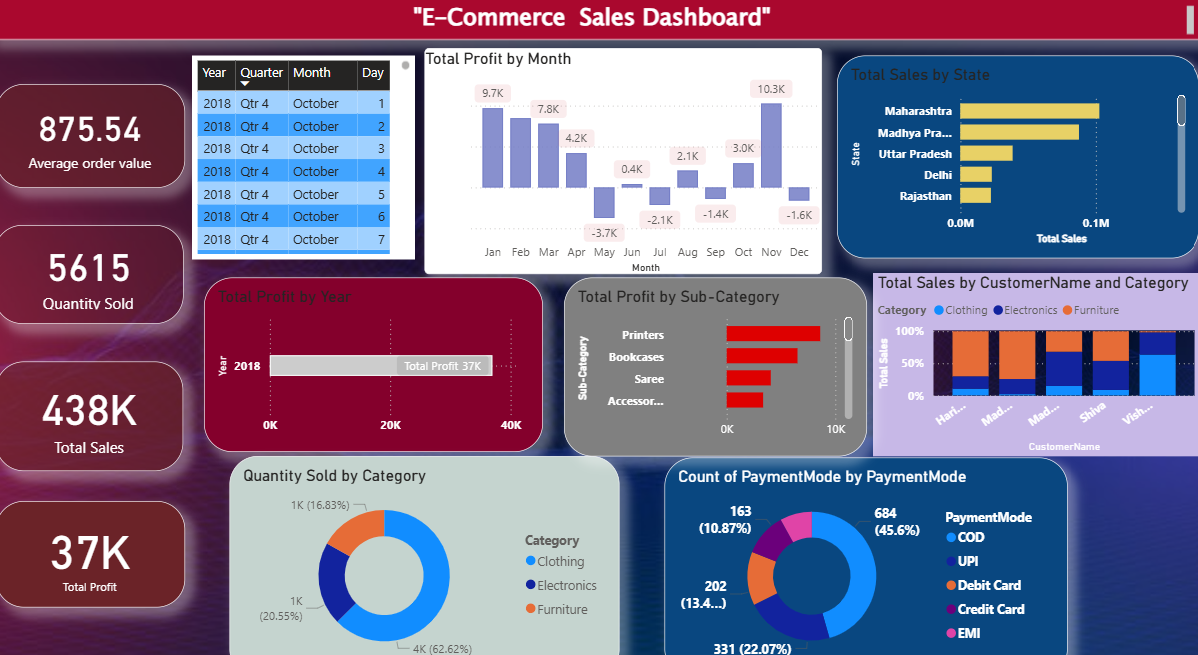

Layout of this report page (visuals, bound fields, positions):
{"tool":"powerbi","page":{"name":"Page 1","canvas":[1280,720],"ordinal":0},"visuals":[{"type":"textbox","box":[0,0,1279.8,45.5],"z":0},{"type":"card","fields":{"Values":["Details.Total Sales"]},"box":[4.8,384.9,198.8,116.1],"z":1000},{"type":"card","fields":{"Values":["Details.Quantity Sold"]},"box":[3.2,241.8,200.4,105],"z":2000},{"type":"card","fields":{"Values":["Details.Total Profit"]},"box":[3.2,564.7,200.4,112.9],"z":3000},{"type":"card","fields":{"Values":["Details.Average order value"]},"box":[4.8,92.3,200.4,109.8],"z":4000},{"type":"tableEx","fields":{"Values":["Orders.Date of Sales.Variation.Date Hierarchy.Year","Orders.Date of Sales.Variation.Date Hierarchy.Quarter","Orders.Date of Sales.Variation.Date Hierarchy.Month","Orders.Date of Sales.Variation.Date Hierarchy.Day"]},"box":[213.1,61.6,235.4,215.2],"z":5000},{"type":"clusteredColumnChart","fields":{"Category":["Orders.Month"],"Y":["Details.Total Profit"]},"box":[458.3,54.7,420.8,239.3],"z":5500},{"type":"clusteredBarChart","fields":{"Y":["Details.Total Profit"],"Category":["Orders.Date of Sales.Variation.Date Hierarchy.Year","Orders.Date of Sales.Variation.Date Hierarchy.Quarter","Orders.Date of Sales.Variation.Date Hierarchy.Month","Orders.Date of Sales.Variation.Date Hierarchy.Day","Orders.Month"]},"box":[229.9,301.9,358.2,184.6],"z":6000},{"type":"clusteredBarChart","fields":{"Y":["Details.Total Sales"],"Category":["Orders.State"]},"box":[895.6,61.8,383.8,214.7],"z":8000},{"type":"donutChart","fields":{"Category":["Details.Category"],"Y":["Details.Quantity Sold"]},"box":[251.8,486.5,412.9,234.6],"z":9000},{"type":"donutChart","fields":{"Category":["Details.PaymentMode"],"Y":["Details.PaymentMode"]},"box":[713.2,486.8,426.5,232.4],"z":10000},{"type":"hundredPercentStackedColumnChart","fields":{"Category":["Orders.CustomerName"],"Y":["Details.Total Sales"],"Series":["Details.Category"]},"box":[933.4,292.9,346.1,194.2],"z":11000},{"type":"clusteredBarChart","fields":{"Y":["Details.Total Profit"],"Category":["Details.Sub-Category"]},"box":[606.1,306.9,308.5,180.1],"z":12000}]}

Visuals, with their boxes in screenshot pixels (x1, y1, x2, y2), scaled from the page's 1280x720 canvas onto the 1198x655 screenshot:
textbox: crop(0, 0, 1197, 41)
card - Details.Total Sales: crop(4, 350, 191, 456)
card - Details.Quantity Sold: crop(3, 220, 191, 315)
card - Details.Total Profit: crop(3, 514, 191, 616)
card - Details.Average order value: crop(4, 84, 192, 184)
tableEx - Orders.Date of Sales.Variation.Date Hierarchy.Year x Orders.Date of Sales.Variation.Date Hierarchy.Quarter: crop(199, 56, 420, 252)
clusteredColumnChart - Orders.Month x Details.Total Profit: crop(429, 50, 823, 267)
clusteredBarChart - Details.Total Profit x Orders.Date of Sales.Variation.Date Hierarchy.Year: crop(215, 275, 550, 443)
clusteredBarChart - Details.Total Sales x Orders.State: crop(838, 56, 1197, 252)
donutChart - Details.Category x Details.Quantity Sold: crop(236, 443, 622, 654)
donutChart - Details.PaymentMode x Details.PaymentMode: crop(668, 443, 1067, 654)
hundredPercentStackedColumnChart - Orders.CustomerName x Details.Total Sales: crop(874, 266, 1197, 443)
clusteredBarChart - Details.Total Profit x Details.Sub-Category: crop(567, 279, 856, 443)
